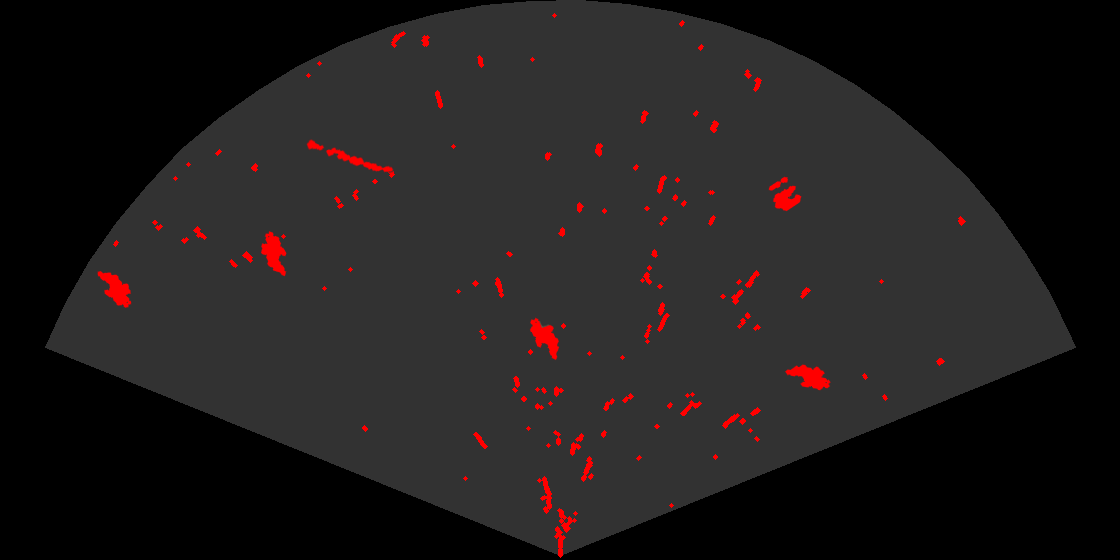AUV: (528, 316, 561, 362), (96, 269, 133, 309), (784, 363, 832, 392), (259, 230, 288, 278)
ball: (767, 175, 803, 213)
chain: (305, 138, 395, 174)
